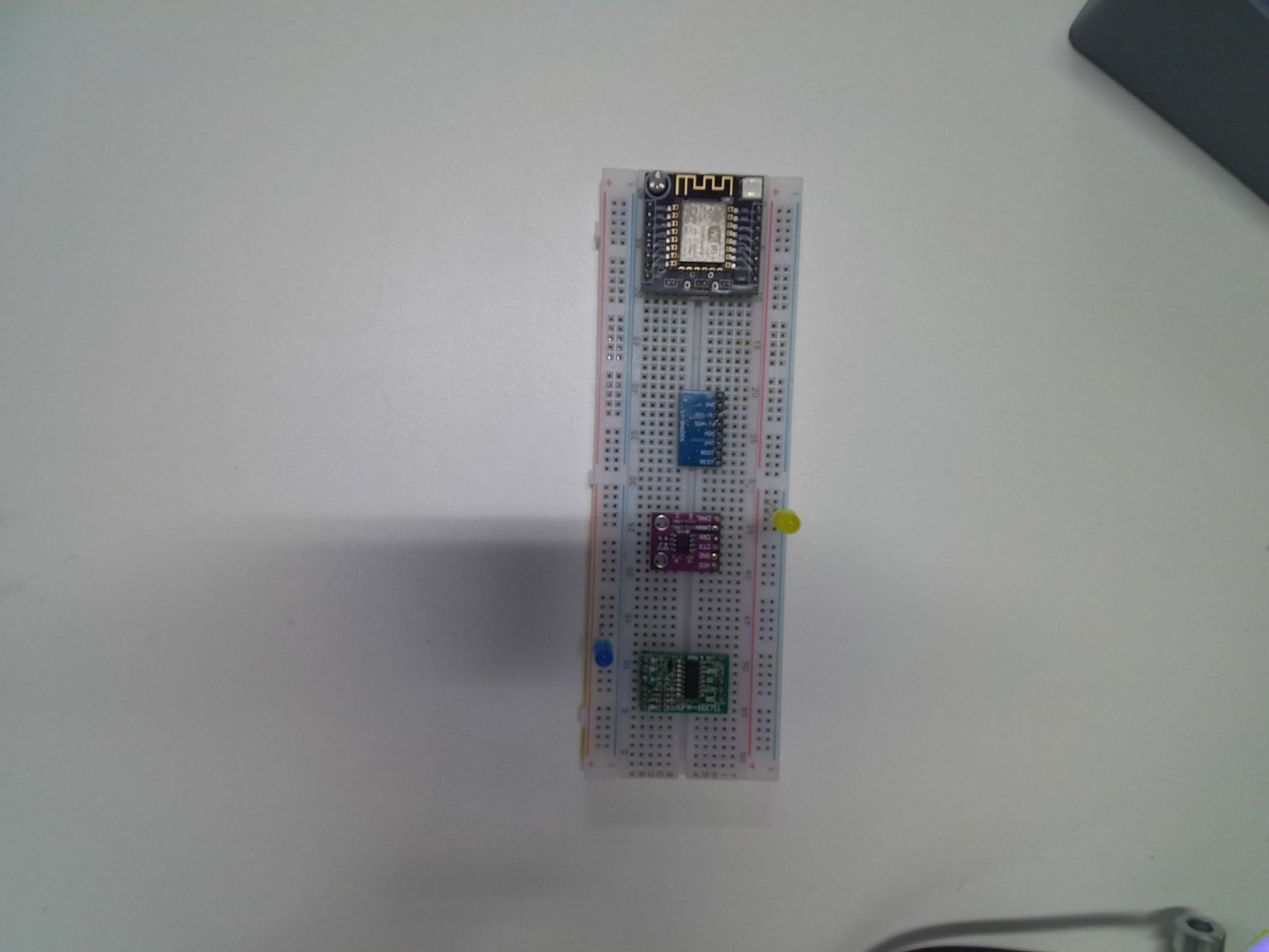base: (576, 168, 807, 789)
blue-board: (672, 386, 727, 473)
blue-led: (587, 637, 618, 673)
esp: (638, 165, 763, 303)
green-board: (634, 646, 737, 718)
purple-board: (646, 510, 722, 575)
yellow-led: (774, 509, 801, 534)
